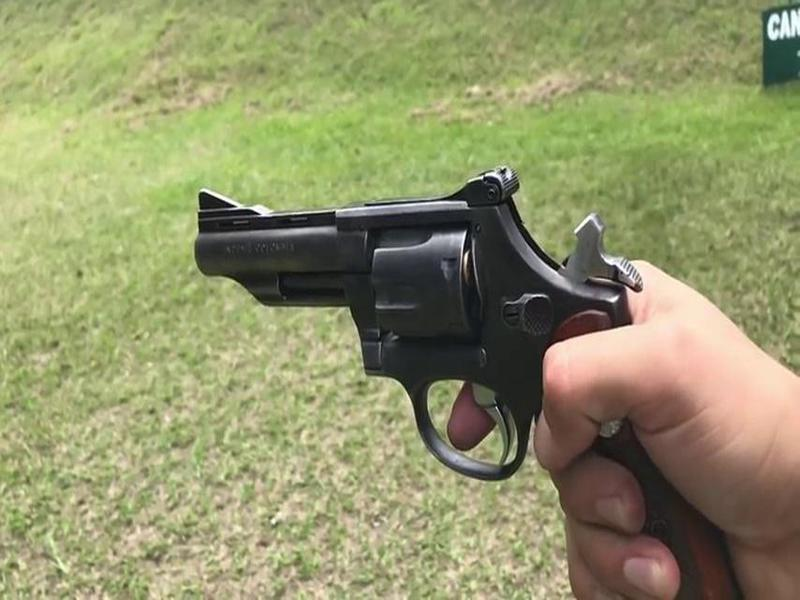Revolver: (171, 144, 800, 555)
